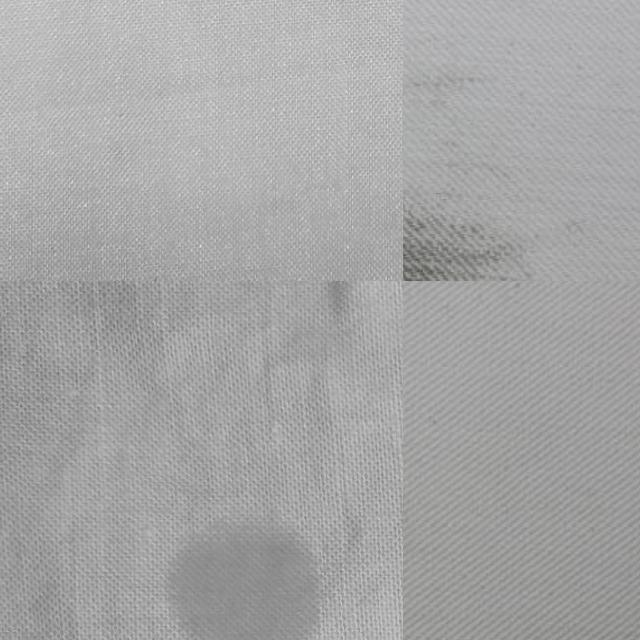Thread_other: (133, 497, 355, 640), (403, 142, 619, 281)
